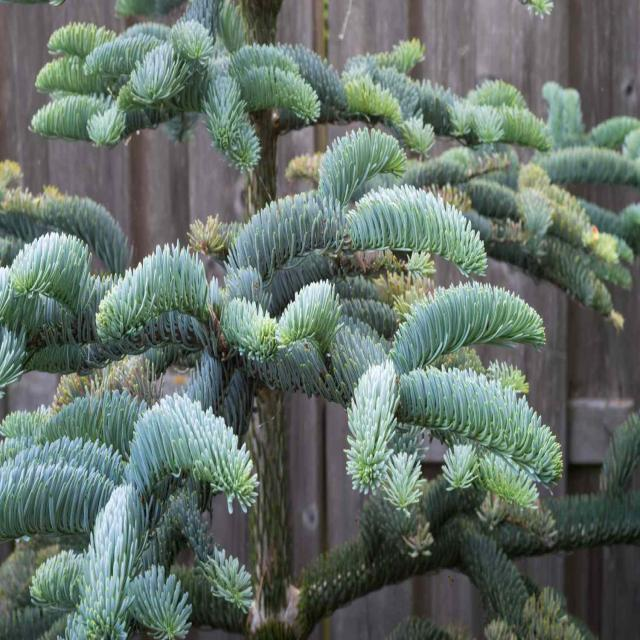Abies: (232, 162, 547, 493), (0, 198, 209, 640), (47, 24, 447, 150)
